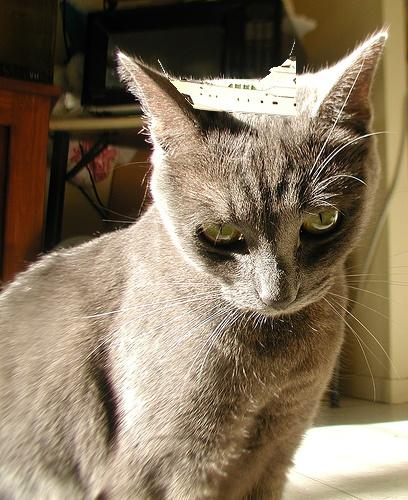tampered: (158, 40, 296, 117)
